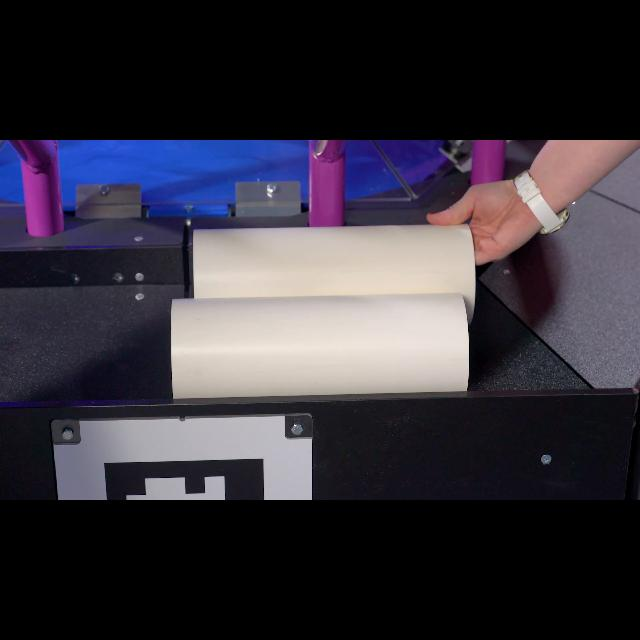CORAL: (170, 293, 470, 399), (190, 223, 476, 323)
